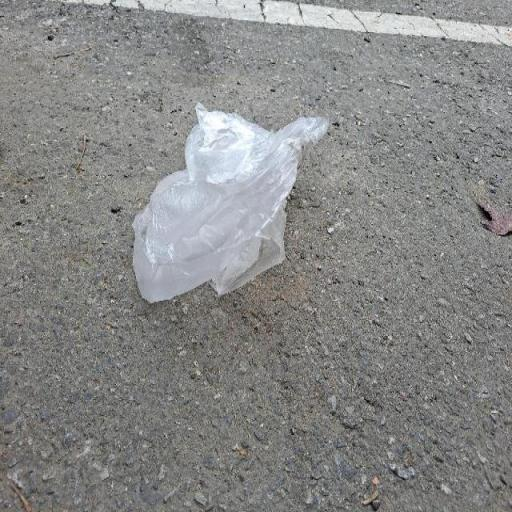plastic-bag: (128, 100, 334, 310)
